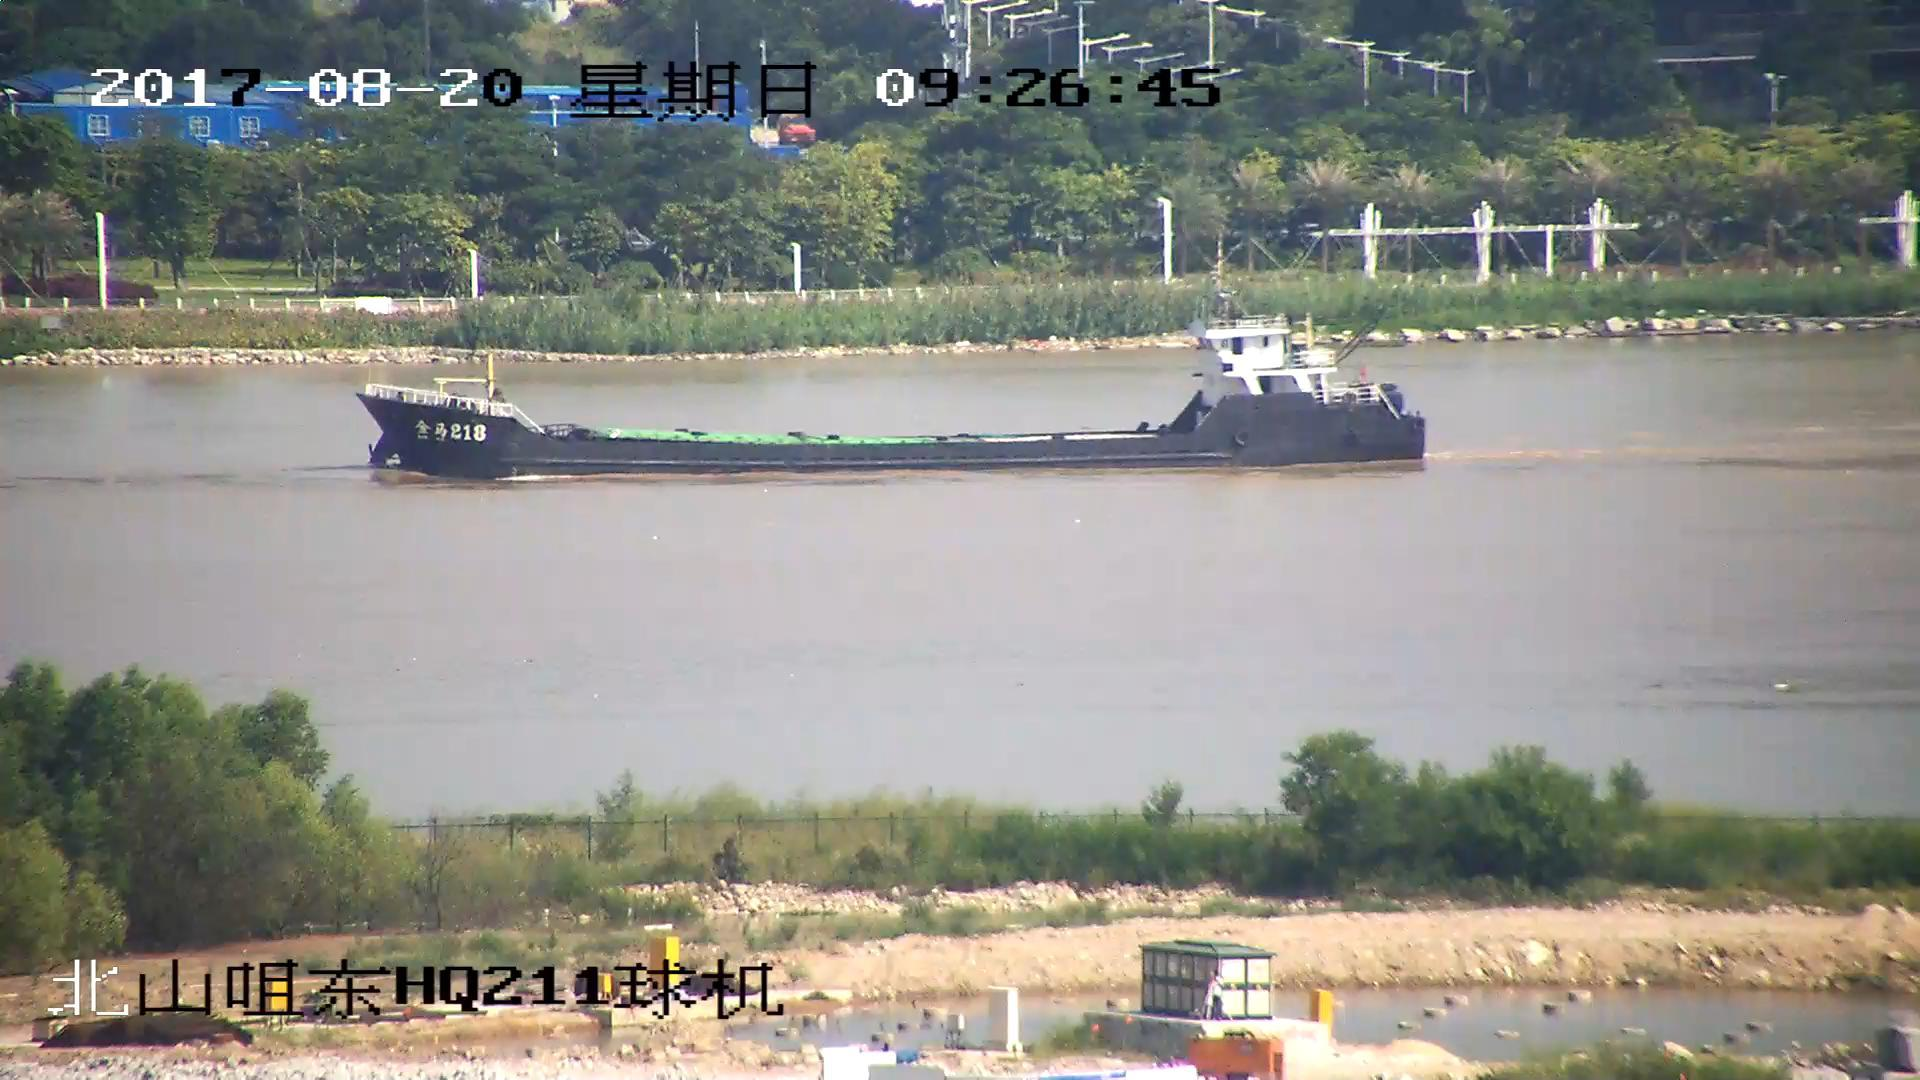Ship: (368, 319, 1425, 473)
